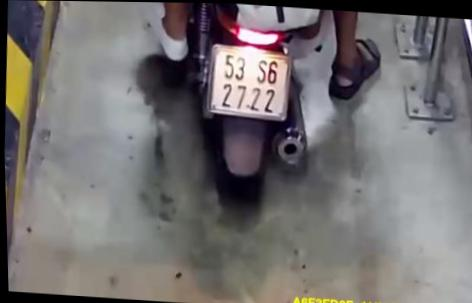LP: (205, 40, 294, 122)
